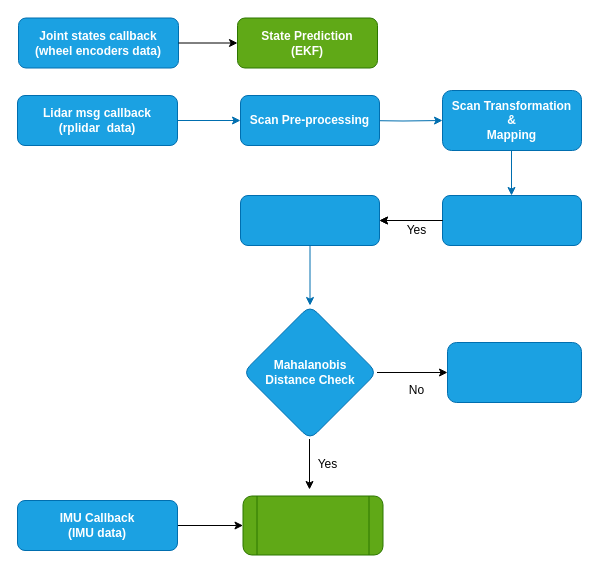
This 599x572 diagram has some shape labels left out. The box of each missing label's shape, as (x1, y1, x2, y2) in pixels:
Overlap check: (442, 194, 582, 246)
Remove Pose & Scan: (446, 342, 582, 402)
Scan Matching (ICP): (240, 194, 380, 246)
State Update (EKF): (242, 495, 383, 555)
